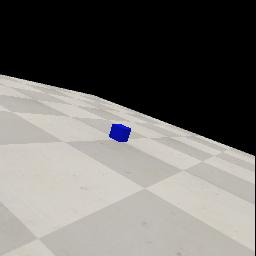box: (109, 124, 131, 142)
